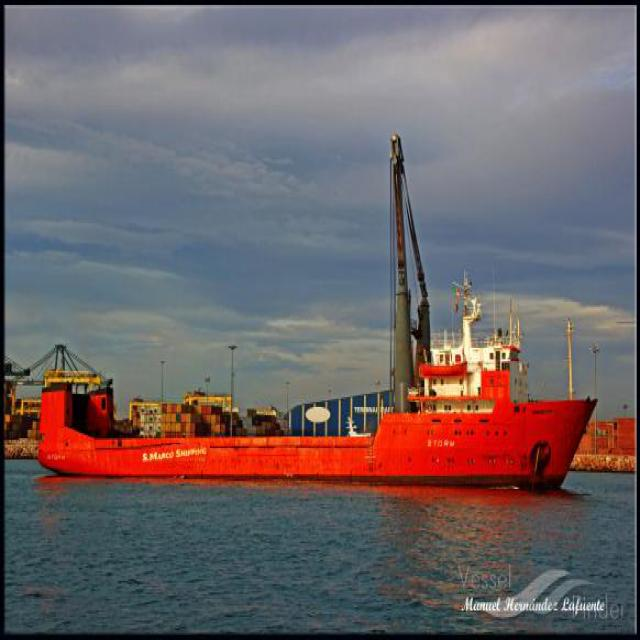OCR: (136, 443, 210, 468)
